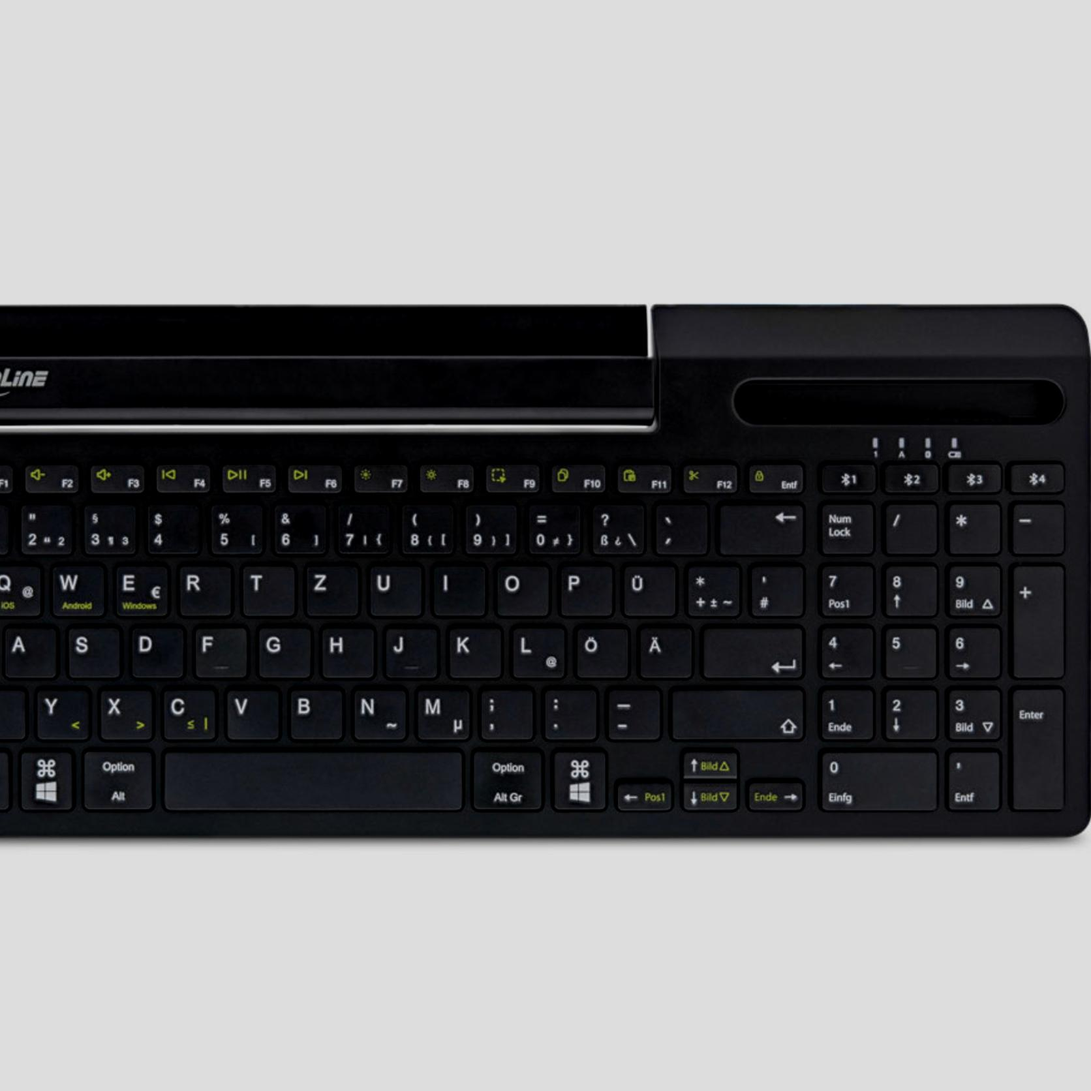0: (523, 497, 580, 554)
1: (1, 500, 29, 555)
2: (15, 499, 72, 554)
3: (78, 498, 136, 553)
4: (142, 499, 198, 553)
5: (204, 498, 262, 553)
6: (268, 498, 325, 553)
7: (332, 498, 390, 554)
8: (395, 498, 453, 553)
9: (459, 497, 516, 554)
a: (1, 621, 56, 677)
accent: (650, 497, 707, 553)
ae: (634, 621, 692, 678)
alt-left: (78, 744, 155, 810)
altgr-right: (467, 743, 543, 810)
b: (284, 683, 343, 739)
c: (158, 683, 215, 739)
caret: (1, 499, 29, 554)
comma: (475, 683, 532, 739)
d: (126, 621, 183, 678)
del: (715, 499, 804, 554)
e: (110, 559, 168, 615)
enter: (698, 621, 803, 677)
f: (189, 621, 245, 677)
g: (253, 621, 310, 677)
h: (316, 621, 373, 677)
hash: (745, 559, 802, 615)
i: (429, 559, 484, 615)
j: (380, 621, 436, 677)
k: (443, 621, 500, 677)
keyboard: (1, 420, 1091, 846)
l: (508, 622, 564, 678)
m: (410, 683, 470, 740)
minus: (601, 683, 659, 739)
n: (348, 683, 405, 739)
o: (490, 559, 548, 616)
oe: (570, 622, 627, 678)
p: (555, 559, 612, 616)
plus: (681, 559, 739, 615)
point: (538, 683, 596, 739)
q: (1, 559, 41, 616)
r: (174, 559, 231, 615)
s: (63, 622, 119, 678)
shift-left: (1, 683, 69, 739)
shift-lock: (1, 622, 54, 678)
shift-right: (667, 683, 803, 739)
space: (161, 743, 462, 811)
ss: (586, 498, 643, 554)
strg-left: (1, 746, 30, 812)
t: (238, 559, 294, 616)
tab: (1, 559, 45, 616)
u: (364, 559, 421, 616)
ue: (617, 559, 676, 616)
v: (221, 683, 279, 739)
w: (46, 558, 103, 615)
x: (95, 683, 152, 739)
y: (31, 683, 89, 739)
z: (301, 560, 358, 616)
